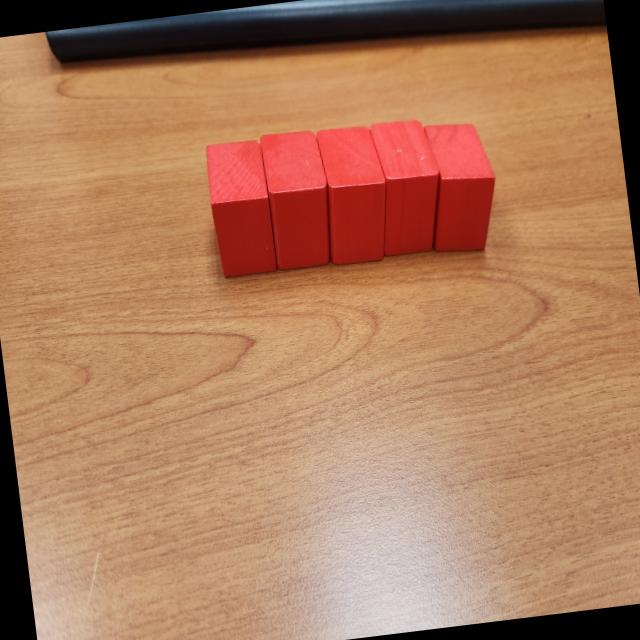red: (313, 121, 396, 266), (418, 117, 504, 254), (366, 115, 448, 256), (257, 127, 337, 270), (202, 138, 278, 280)
